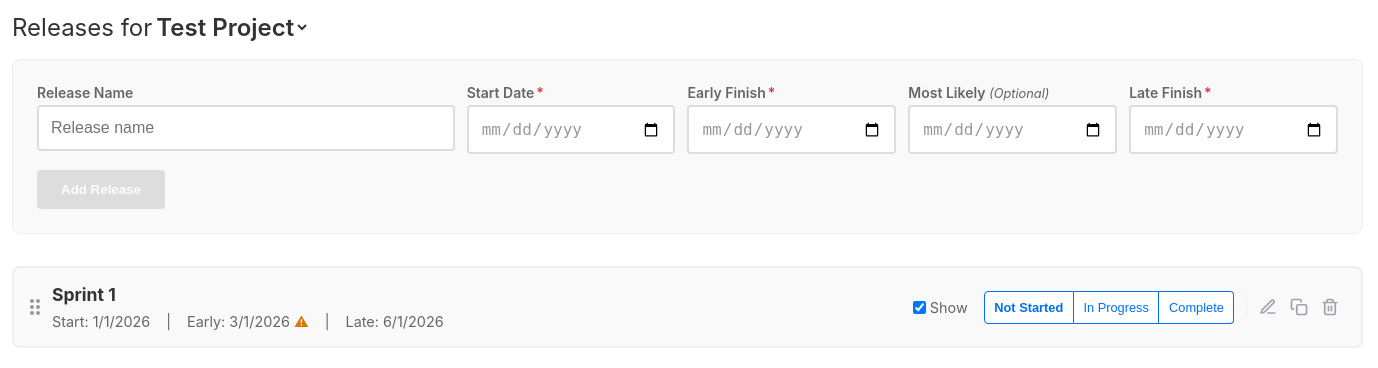
Test: ReleasesTab › edit release › switches to edit mode with pre-filled data when Edit is clicked
This screenshot has width=1378, height=368.
Expected: the text "Sprint 1" is shown, [52,284,116,305]
Click the button named "Edit release" at coordinates (1268, 307), box [1253,292,1283,322]
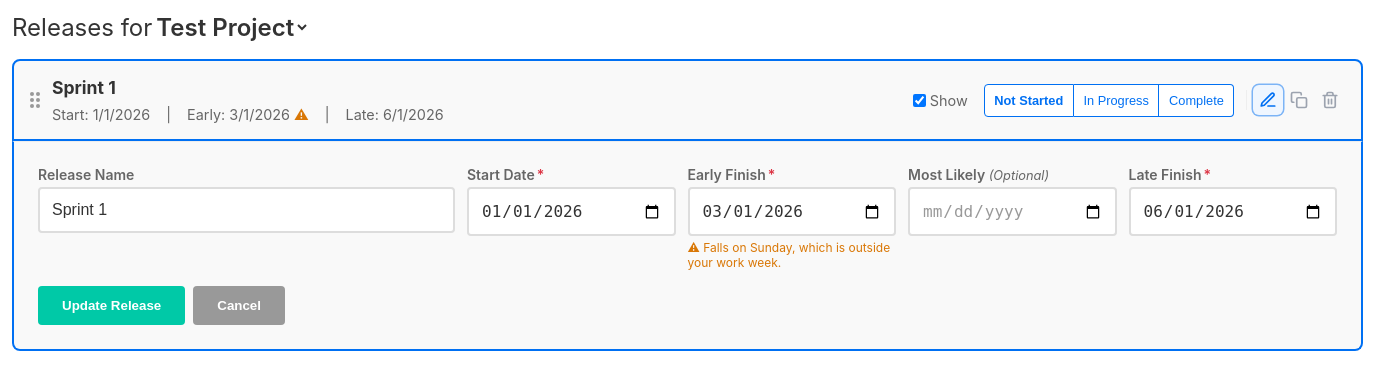
Now the field with placeholder "Release Name" holds "Sprint 1", box [38,187,455,233]
Now the button "Update Release" is shown, box [38,286,185,325]
Now the button "Cancel" is shown, box [193,286,285,325]
